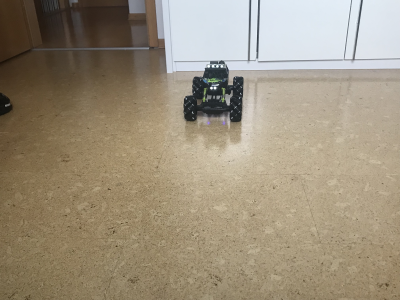remote control car: (181, 59, 245, 121)
